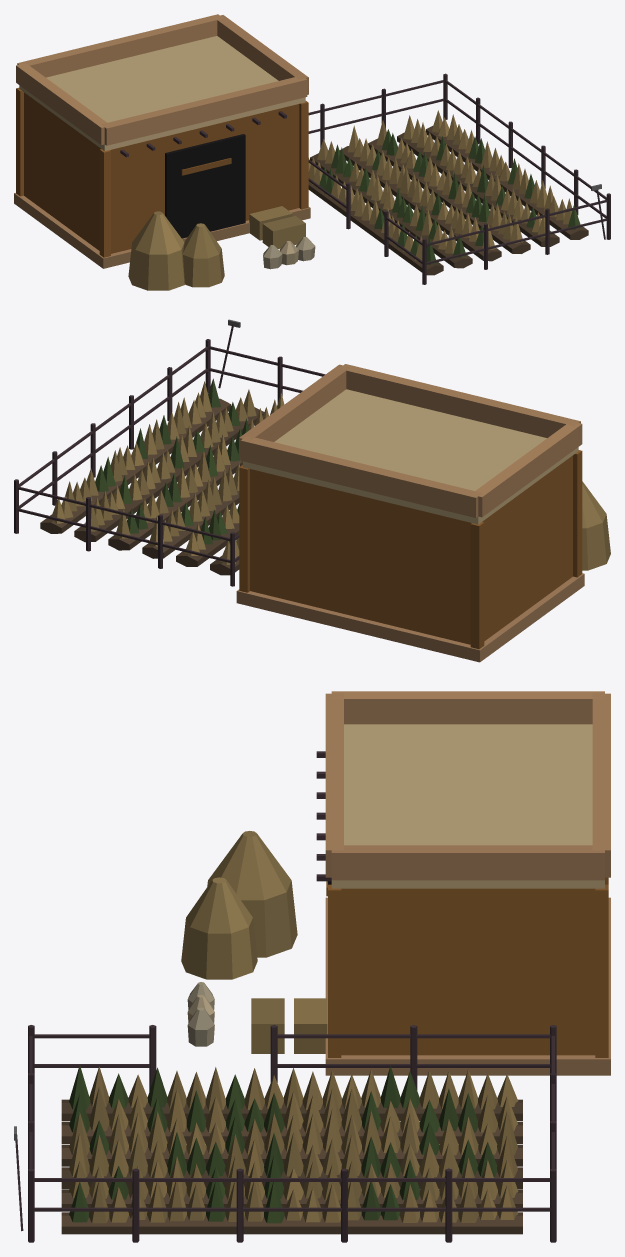
The model's file is walk_hive_farm.glb.
3 renders of one model, top to bottom at view 1: azimuth 30°, elevation 25°; view 2: azimuth 150°, elevation 25°; view 3: azimuth 270°, elevation 25°, orthographic. The views are drawn at different scales.
Parts seen in each view (by area): view 1: walk_hive_farm, walk_hive_farm_roof; view 2: walk_hive_farm, walk_hive_farm_roof; view 3: walk_hive_farm, walk_hive_farm_roof.
Boxes of the visible parts, x1,y1,x2,y2 form: walk_hive_farm: [14, 73, 610, 290]; walk_hive_farm_roof: [16, 14, 308, 150]; walk_hive_farm: [14, 319, 610, 662]; walk_hive_farm_roof: [239, 364, 582, 524]; walk_hive_farm: [14, 751, 610, 1242]; walk_hive_farm_roof: [325, 691, 610, 888].
Size of what is drawn, in the model's own units: 12.6 by 4.24 by 9.84.
2 materials, 2 textured.
